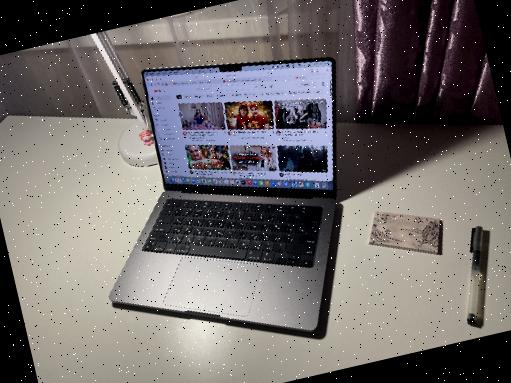youtube: (146, 51, 343, 210)
